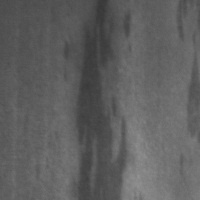inclusion: (66, 2, 133, 199), (178, 33, 199, 144), (57, 31, 78, 92), (171, 0, 193, 45), (174, 149, 190, 182)
